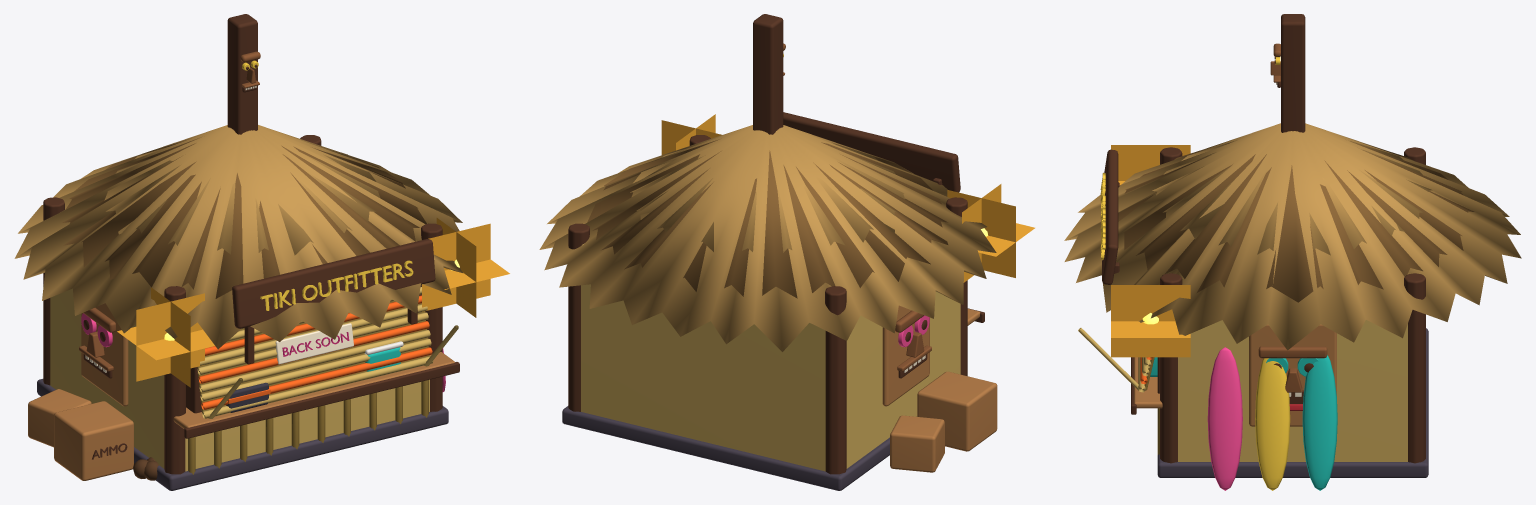
The model's file is lava_station.glb.
3 views of the same model, side by side, from view 1: azimuth 30°, elevation 25°; view 2: azimuth 150°, elevation 25°; view 3: azimuth 270°, elevation 25° (orthographic).
Visible parts, largest first — view 1: Station, Shutter, ClosedSign; view 2: Station; view 3: Station.
Boxes of the visible parts, x1=… form: Station: x1=14, y1=14, x2=509, y2=490; Shutter: x1=197, y1=284, x2=433, y2=418; ClosedSign: x1=275, y1=323, x2=353, y2=364; Station: x1=539, y1=14, x2=1034, y2=490; Station: x1=1064, y1=14, x2=1521, y2=490.
Size of the model in its own units: 6.8 by 6.4 by 6.76.
